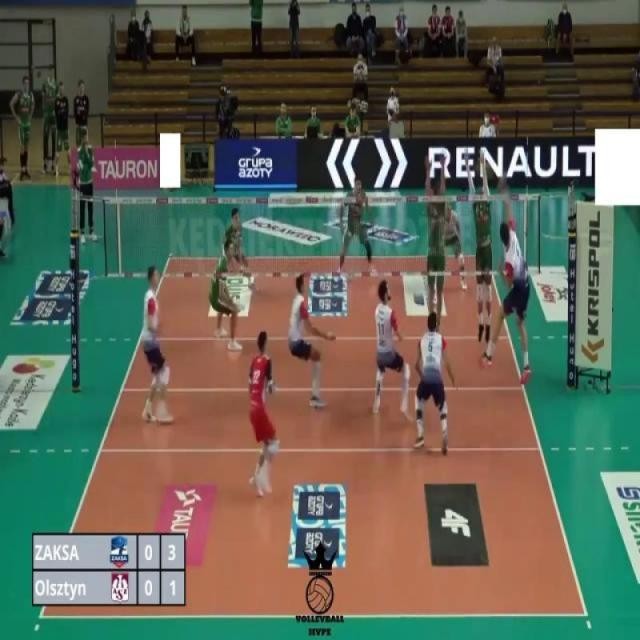volleyball: (475, 162, 494, 179)
